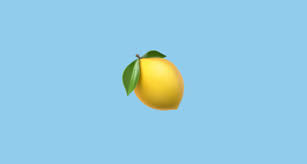lemon: (120, 46, 197, 123)
